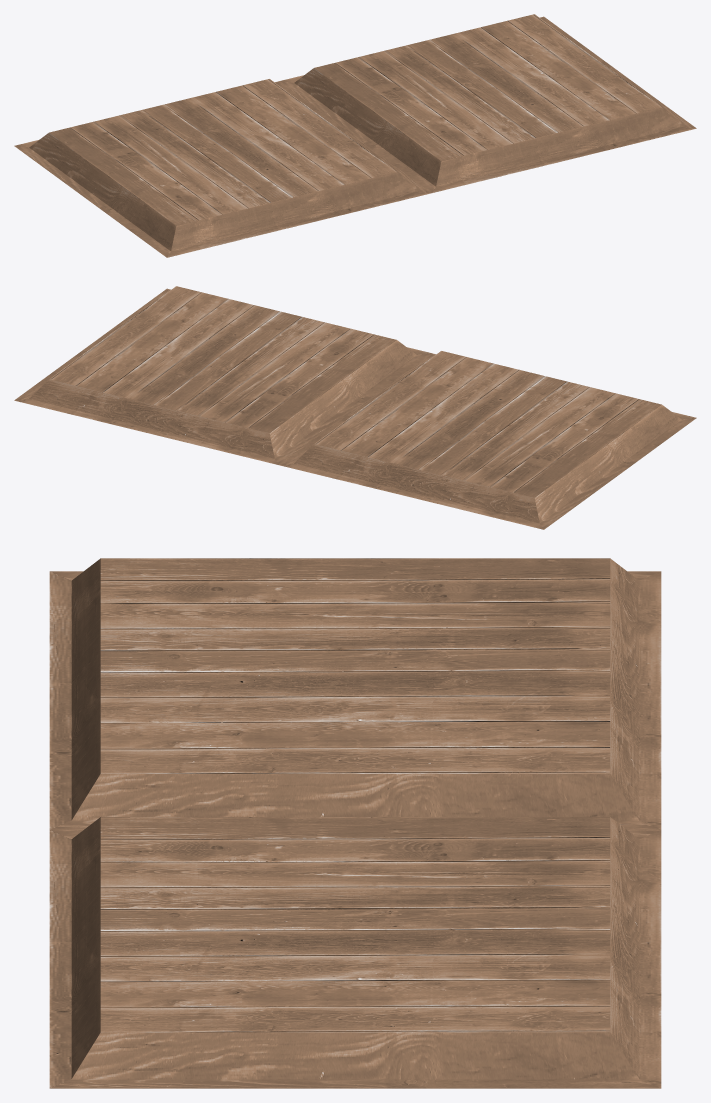
File: Ceiling8B.fbx
3 renders of one model, top to bottom at view 1: azimuth 30°, elevation 25°; view 2: azimuth 150°, elevation 25°; view 3: azimuth 270°, elevation 25°, orthographic. The views are drawn at different scales.
Parts seen in each view (by area): view 1: Ceiling8B; view 2: Ceiling8B; view 3: Ceiling8B.
Part boxes in pixels (x1,y1,x2,y2): Ceiling8B: [14, 14, 696, 257]; Ceiling8B: [14, 286, 696, 529]; Ceiling8B: [49, 558, 661, 1088].
Size of the model in its own units: 400 by 12.44 by 200.
